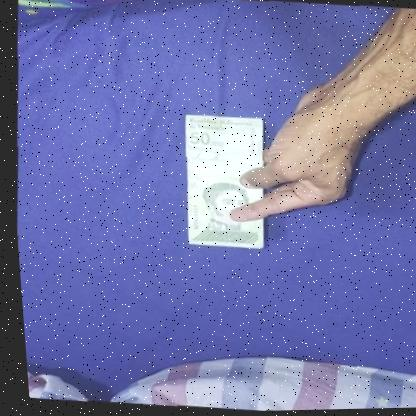fifty-front-vef: (171, 112, 270, 252)
